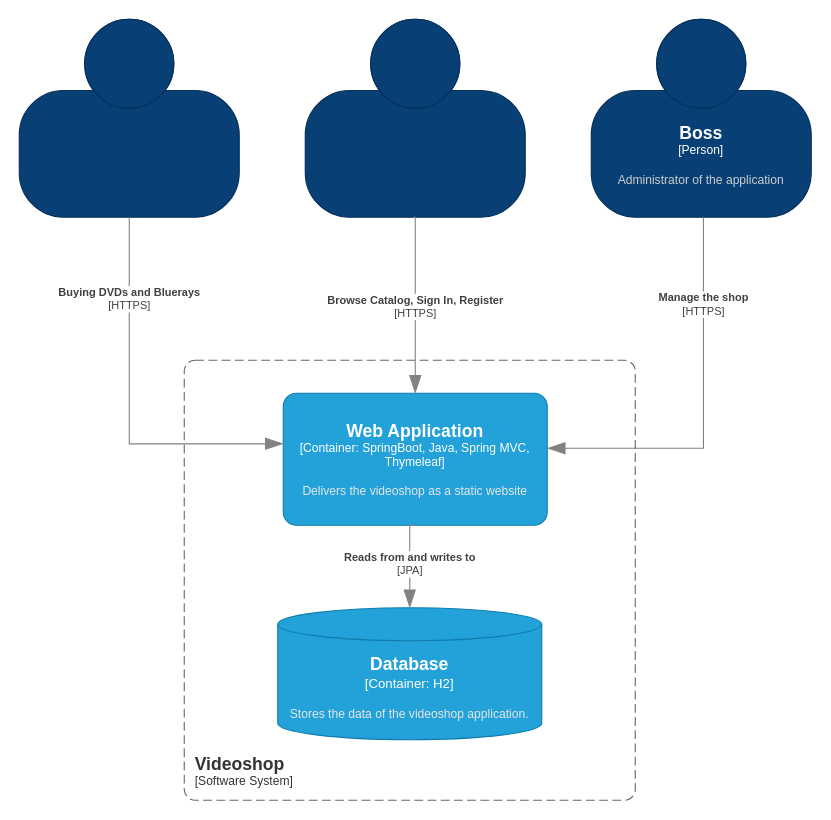
This 831x820 diagram has some shape labels left out. Each missing label, with the centre of its shape:
"Customer [Person] User, who is logged in an account" belongs at [128,117].
"Unauthenticated User [Person] A visitor of the shop" belongs at [414,117].
